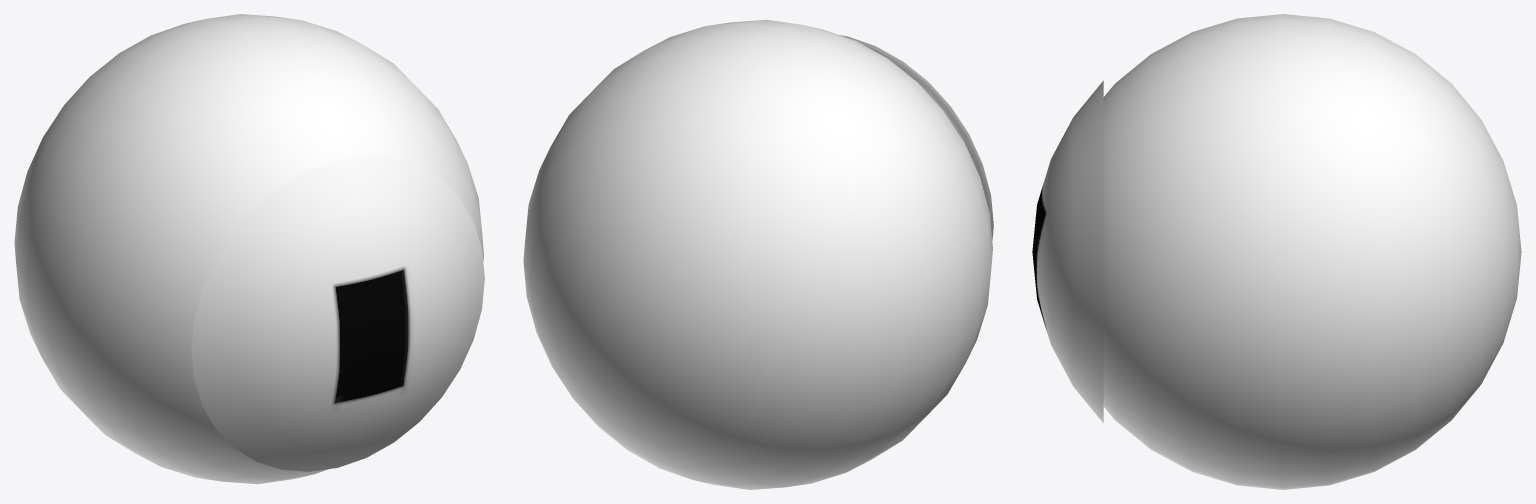
File: ball_01.fbx
3 views of the same model, side by side, from view 1: azimuth 30°, elevation 25°; view 2: azimuth 150°, elevation 25°; view 3: azimuth 270°, elevation 25° (orthographic).
Visible parts, largest first — view 1: ball_01, ball_number_alpha01; view 2: ball_01, ball_number_alpha01, ball_01_alpha; view 3: ball_01, ball_number_alpha01.
Boxes of the visible parts, bbox=[...] form: ball_01: bbox=[14, 14, 483, 484]; ball_number_alpha01: bbox=[191, 156, 484, 471]; ball_01: bbox=[523, 19, 992, 489]; ball_number_alpha01: bbox=[839, 35, 993, 240]; ball_01_alpha: bbox=[863, 44, 989, 213]; ball_01: bbox=[1103, 14, 1521, 489]; ball_number_alpha01: bbox=[1032, 80, 1103, 423].
Bounding box in the file's own units: 149 × 149 × 153.
Materials: 3 (3 with a texture image).
